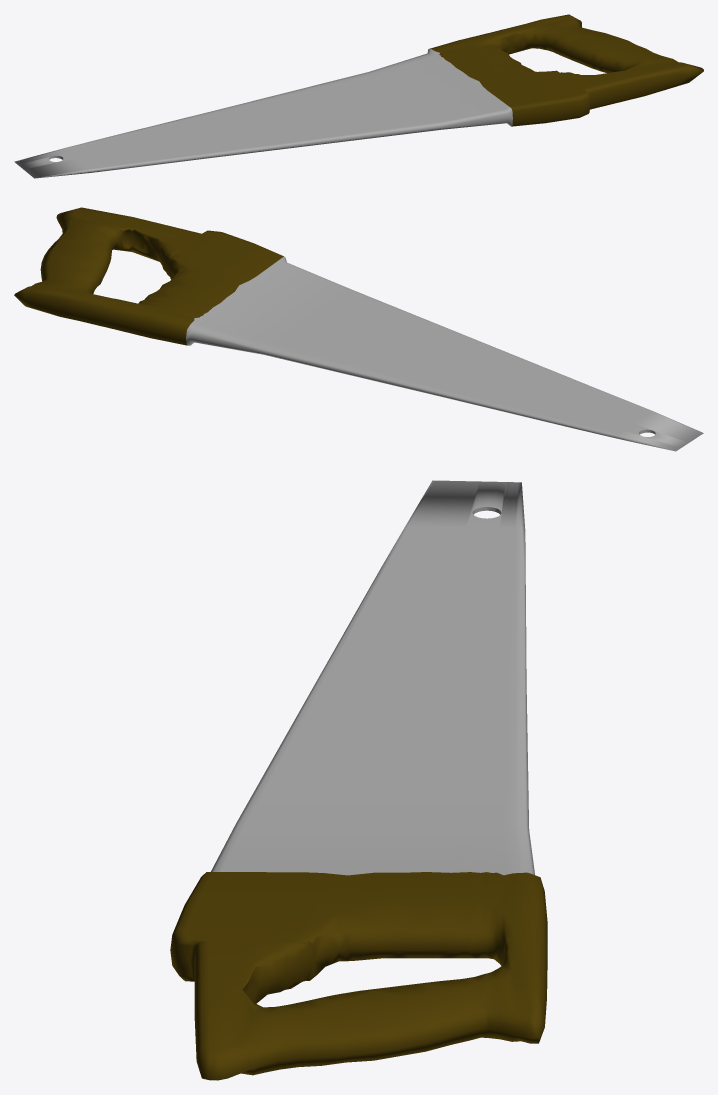
Rendered from HandSaw.fbx.
The picture shows the model from 3 angles, top to bottom: view 1: azimuth 30°, elevation 25°; view 2: azimuth 150°, elevation 25°; view 3: azimuth 270°, elevation 25°; orthographic projection. The views are drawn at different scales.
Parts seen in each view (by area): view 1: pCube159; view 2: pCube159; view 3: pCube159.
Boxes of the visible parts, left/top/right/bottom form: pCube159: left=14, top=14, right=703, bottom=178; pCube159: left=14, top=207, right=703, bottom=451; pCube159: left=170, top=480, right=547, bottom=1080.
Bounding box in the file's own units: 3.15 × 0.1011 × 0.8384.
